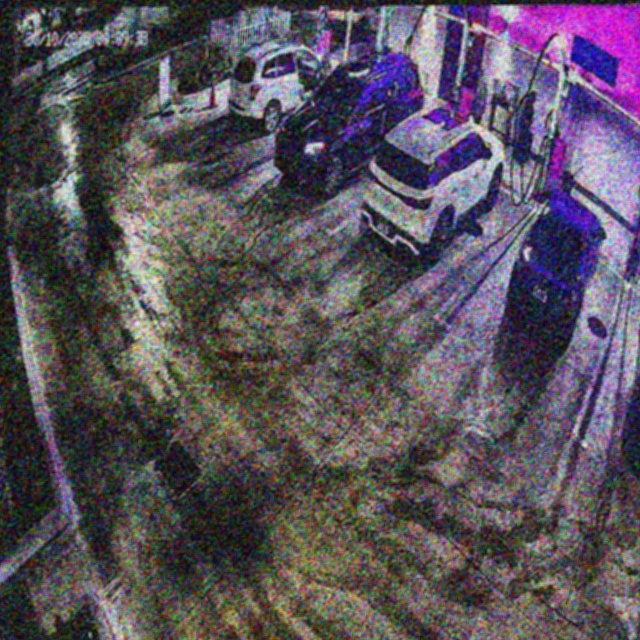Car: (362, 106, 506, 268), (279, 52, 425, 188)
